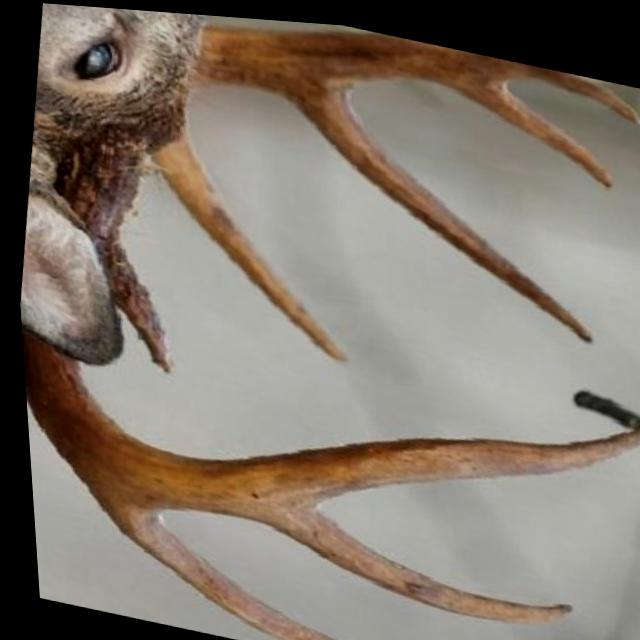L-G3: (287, 79, 592, 339)
L-G4: (463, 77, 614, 181)
R-G1: (92, 240, 171, 372)
R-G2: (103, 506, 334, 640)
R-G3: (262, 502, 566, 615)
